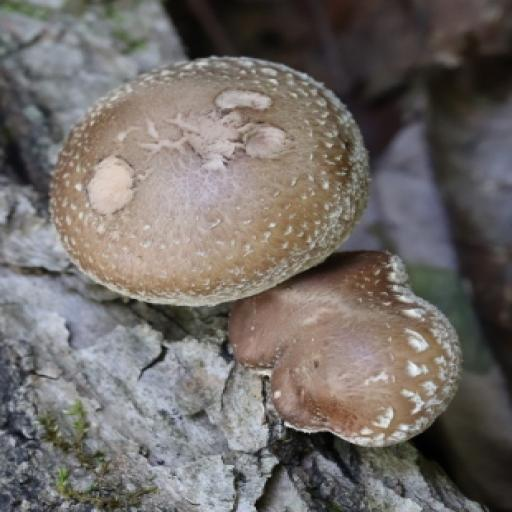Shiitake Mushroom: (11, 0, 512, 481)
